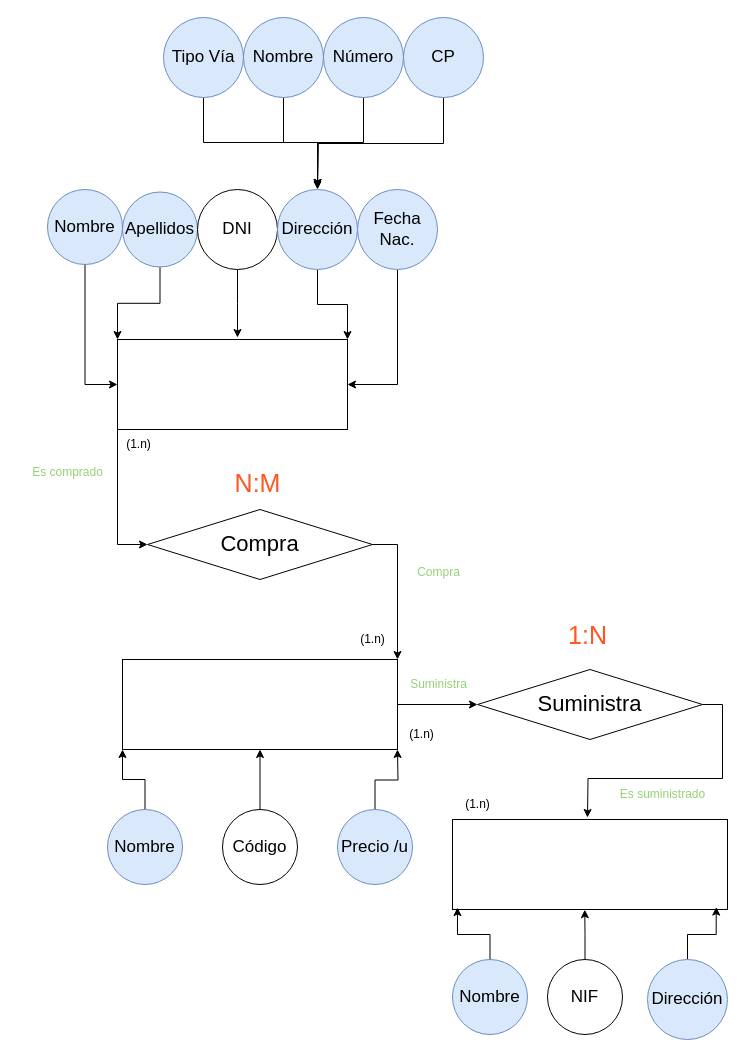
Some shapes in this 748 by 1057 pixel diagram are drawn without their labels. Each missing label, with the box of its shape:
Clientes: (116, 338, 348, 430)
Productos: (122, 658, 398, 750)
Proveedores: (452, 818, 728, 910)
